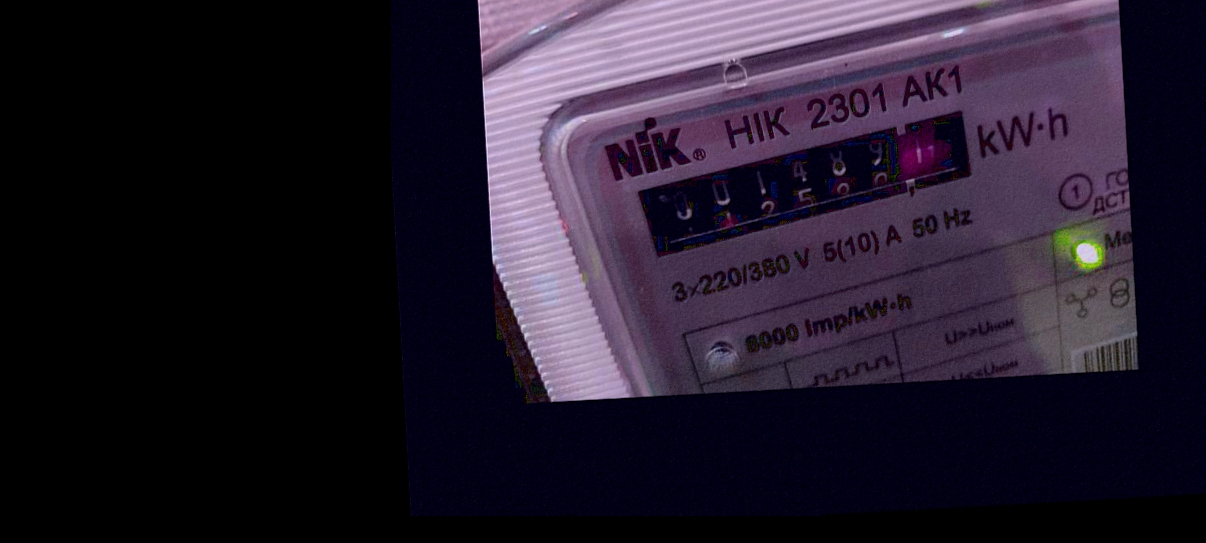0: (707, 171, 735, 209), (670, 188, 696, 224)
1: (908, 129, 929, 168), (751, 165, 772, 197)
4: (788, 153, 812, 185)
8: (828, 143, 851, 180)
9: (866, 135, 888, 168)
screen: (623, 99, 1006, 270)
